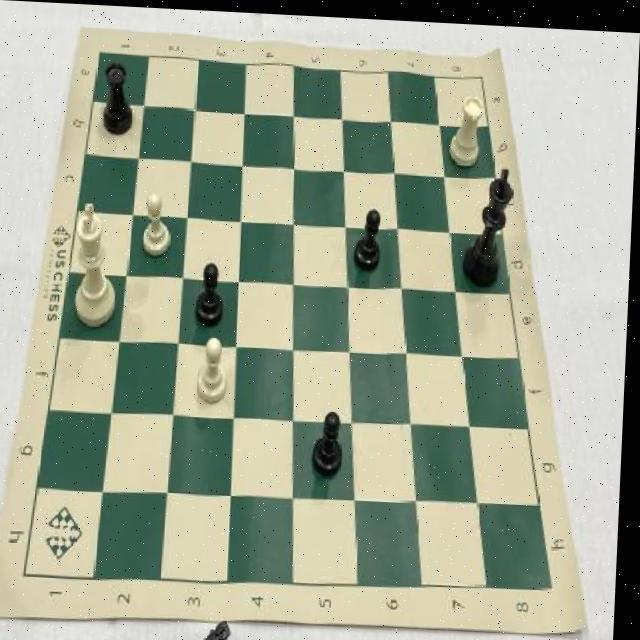black-bishop: (459, 156, 521, 294)
black-knight: (307, 396, 354, 485), (348, 196, 392, 275), (190, 251, 233, 326)
black-queen: (95, 54, 141, 144)
white-bishop: (66, 193, 129, 334)
white-knight: (194, 331, 238, 410), (139, 187, 181, 264)
white-queen: (444, 83, 488, 173)
